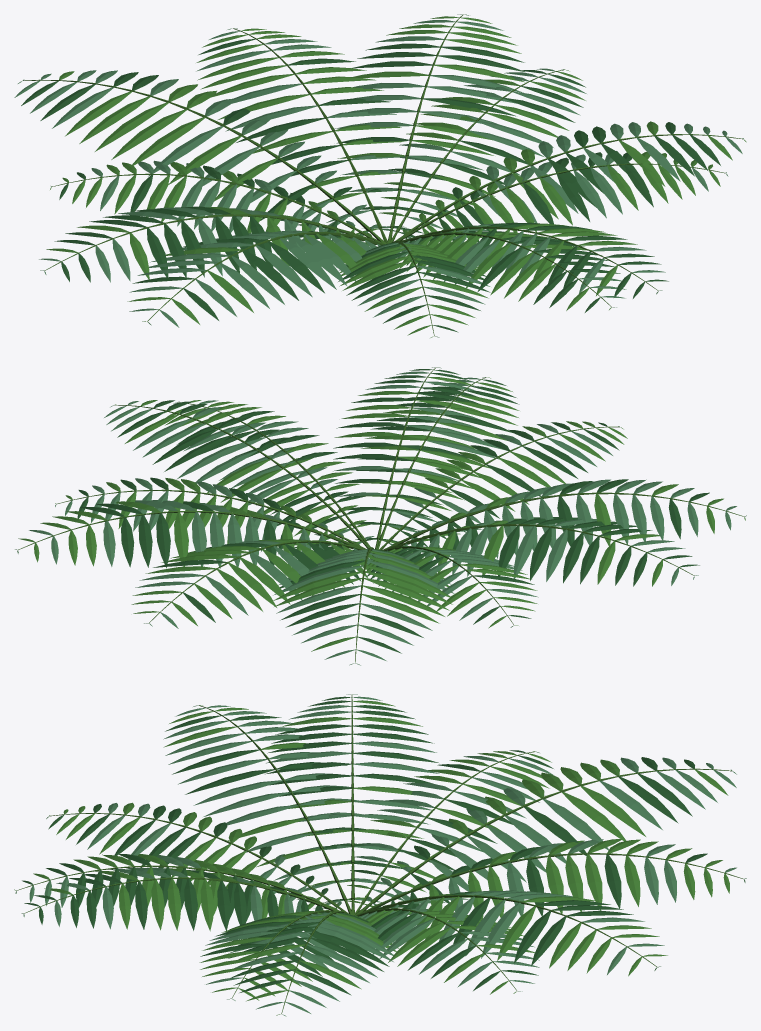
File: fern_large.glb
3 views of the same model, one above another, from view 1: azimuth 30°, elevation 25°; view 2: azimuth 150°, elevation 25°; view 3: azimuth 270°, elevation 25° (orthographic). The views are drawn at different scales.
Visible parts, largest first — view 1: fern_large; view 2: fern_large; view 3: fern_large.
Part boxes in pixels (bbox=[...]): fern_large: bbox=[14, 14, 746, 337]; fern_large: bbox=[15, 367, 746, 665]; fern_large: bbox=[14, 694, 746, 1016].
Bounding box in the file's own units: 2.33 × 0.298 × 2.26.
